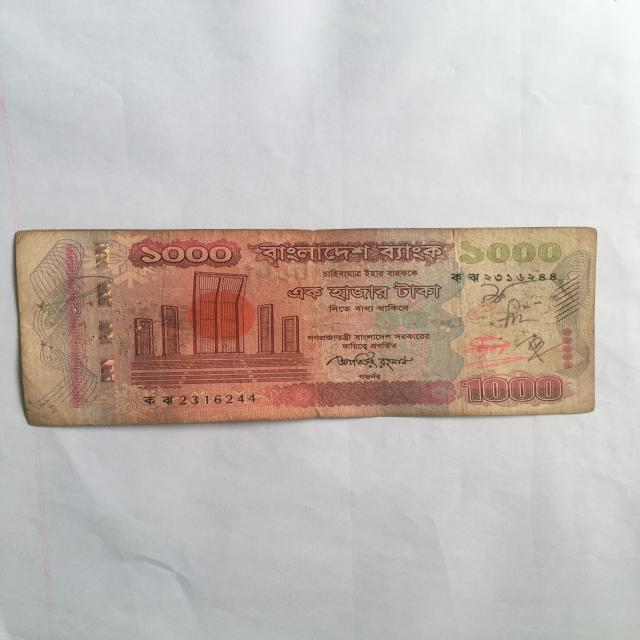Taka: (18, 223, 599, 421)
